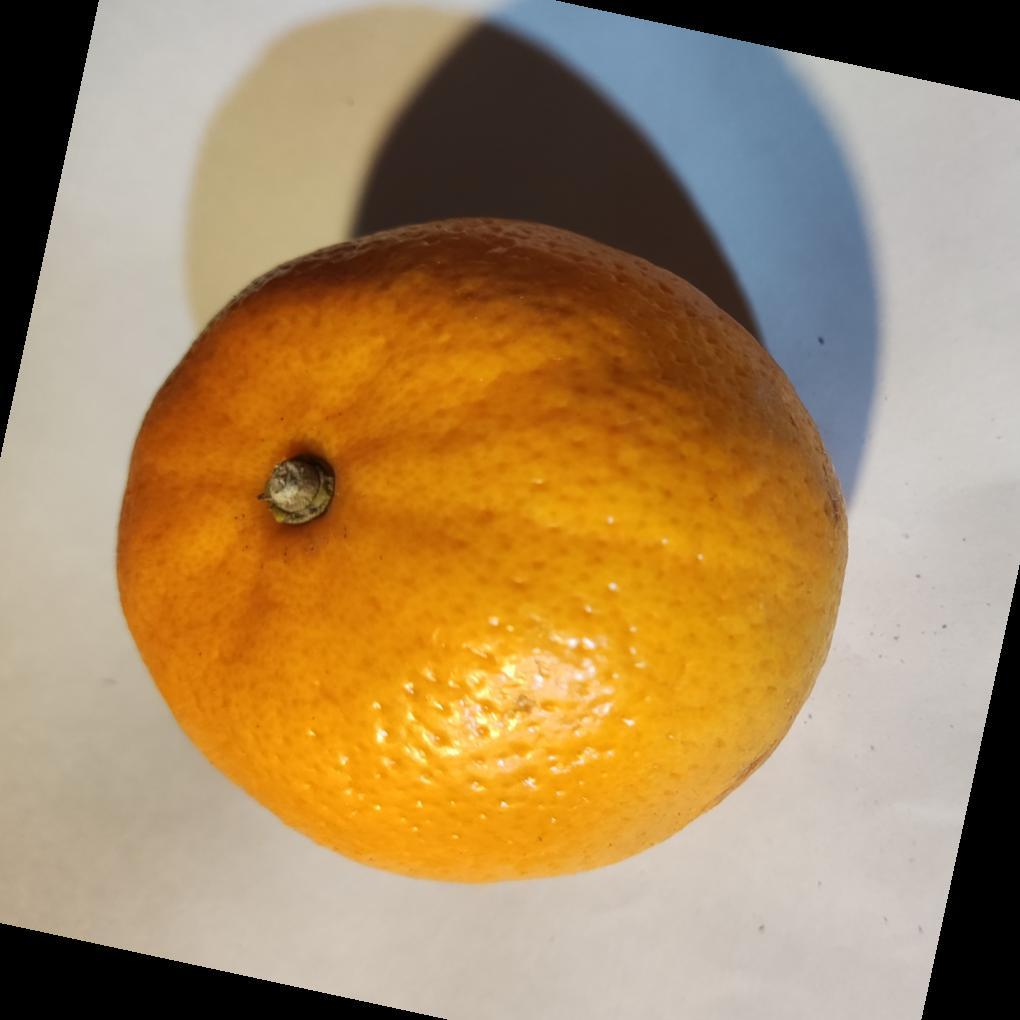FreshGuava: (113, 217, 850, 890)
